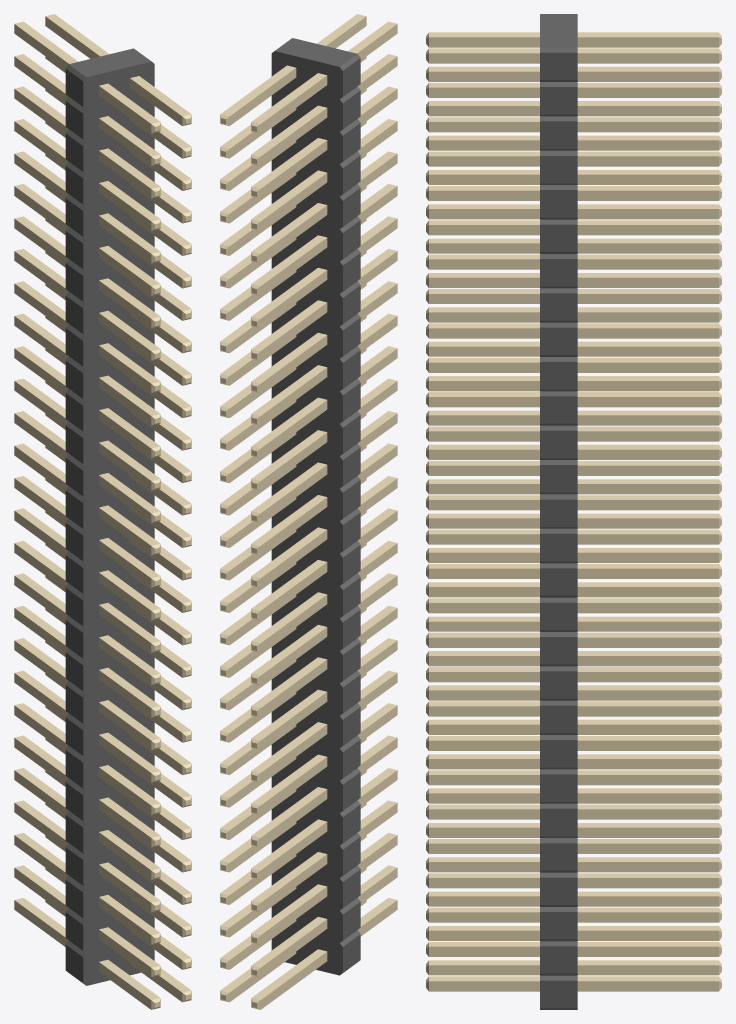
Rendered from PinHeader_2x28_P1.00mm_Vertical.glb.
3 views of the same model, side by side, from view 1: azimuth 30°, elevation 25°; view 2: azimuth 150°, elevation 25°; view 3: azimuth 270°, elevation 25° (orthographic). The views are drawn at different scales.
Visible parts, largest first — view 1: Shape_IndexedFaceSet.003, Shape_IndexedFaceSet.001, Shape_IndexedFaceSet.260, Shape_IndexedFaceSet.215, Shape_IndexedFaceSet.376, Shape_IndexedFaceSet.439, Shape_IndexedFaceSet.600, Shape_IndexedFaceSet.484, Shape_IndexedFaceSet.224, Shape_IndexedFaceSet.229, Shape_IndexedFaceSet.237, Shape_IndexedFaceSet.240 (+134 smaller); view 2: Shape_IndexedFaceSet.004, Shape_IndexedFaceSet.001, Shape_IndexedFaceSet.484, Shape_IndexedFaceSet.439, Shape_IndexedFaceSet.600, Shape_IndexedFaceSet.453, Shape_IndexedFaceSet.499, Shape_IndexedFaceSet.584, Shape_IndexedFaceSet.440, Shape_IndexedFaceSet.448, Shape_IndexedFaceSet.461, Shape_IndexedFaceSet.476 (+76 smaller); view 3: Shape_IndexedFaceSet.398, Shape_IndexedFaceSet.407, Shape_IndexedFaceSet.417, Shape_IndexedFaceSet.430, Shape_IndexedFaceSet.446, Shape_IndexedFaceSet.455, Shape_IndexedFaceSet.459, Shape_IndexedFaceSet.482, Shape_IndexedFaceSet.489, Shape_IndexedFaceSet.497, Shape_IndexedFaceSet.507, Shape_IndexedFaceSet.527 (+212 smaller).
Part boxes in pixels (x1,y1,x2,y2): Shape_IndexedFaceSet.003: (83,61,154,985); Shape_IndexedFaceSet.001: (69,48,151,77); Shape_IndexedFaceSet.260: (99,573,151,620); Shape_IndexedFaceSet.215: (99,248,151,295); Shape_IndexedFaceSet.376: (99,897,151,944); Shape_IndexedFaceSet.439: (14,186,68,232); Shape_IndexedFaceSet.600: (14,835,68,881); Shape_IndexedFaceSet.484: (14,511,68,557); Shape_IndexedFaceSet.224: (99,313,151,360); Shape_IndexedFaceSet.229: (99,281,151,327); Shape_IndexedFaceSet.237: (99,670,151,717); Shape_IndexedFaceSet.240: (99,605,151,652); Shape_IndexedFaceSet.004: (271,51,342,975); Shape_IndexedFaceSet.001: (275,38,357,66); Shape_IndexedFaceSet.484: (260,562,327,620); Shape_IndexedFaceSet.439: (260,238,327,295); Shape_IndexedFaceSet.600: (260,887,327,944); Shape_IndexedFaceSet.453: (260,270,327,327); Shape_IndexedFaceSet.499: (260,432,327,490); Shape_IndexedFaceSet.584: (260,789,327,847); Shape_IndexedFaceSet.440: (260,205,327,263); Shape_IndexedFaceSet.448: (260,303,327,360); Shape_IndexedFaceSet.461: (260,660,327,717); Shape_IndexedFaceSet.476: (260,497,327,555); Shape_IndexedFaceSet.398: (577,156,718,166); Shape_IndexedFaceSet.407: (577,259,718,269); Shape_IndexedFaceSet.417: (577,534,718,544); Shape_IndexedFaceSet.430: (577,431,718,441); Shape_IndexedFaceSet.446: (577,140,718,150); Shape_IndexedFaceSet.455: (577,243,718,253); Shape_IndexedFaceSet.459: (577,690,718,700); Shape_IndexedFaceSet.482: (577,518,718,528); Shape_IndexedFaceSet.489: (577,312,718,322); Shape_IndexedFaceSet.497: (577,415,718,425); Shape_IndexedFaceSet.507: (577,706,718,716); Shape_IndexedFaceSet.527: (577,328,718,338).
Size of the model in its own units: 0.906 by 11.02 by 3.07.
